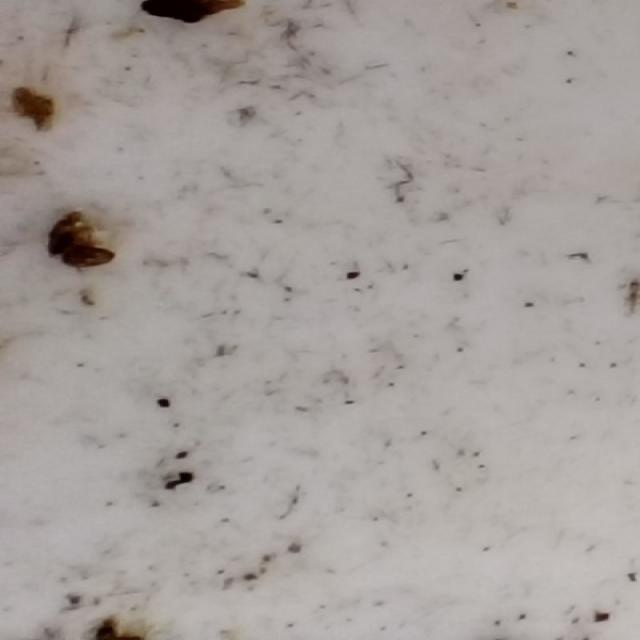varroa: (62, 242, 116, 270)
